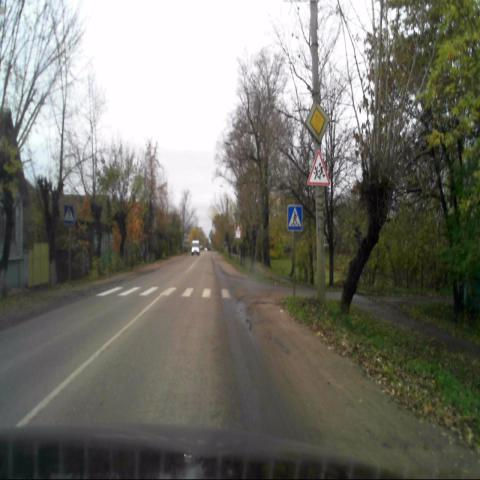1_23: (308, 150, 331, 187)
